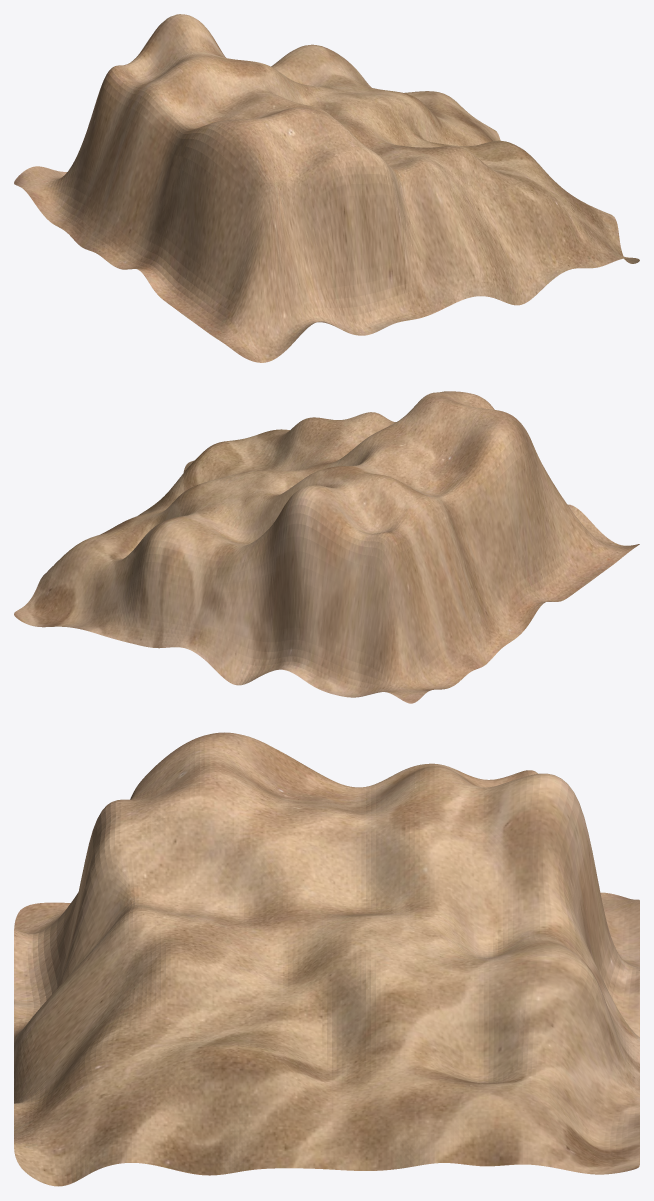
File: arena2.fbx
3 views of the same model, one above another, from view 1: azimuth 30°, elevation 25°; view 2: azimuth 150°, elevation 25°; view 3: azimuth 270°, elevation 25° (orthographic). The views are drawn at different scales.
Visible parts, largest first — view 1: Plano.003; view 2: Plano.003; view 3: Plano.003.
Part boxes in pixels (box(x1,y1,x2,y2)): Plano.003: box(14, 14, 639, 362); Plano.003: box(14, 391, 639, 703); Plano.003: box(14, 732, 639, 1186).
Bounding box in the file's own units: 204 × 84.66 × 200.
Materials: 1 (1 with a texture image).
